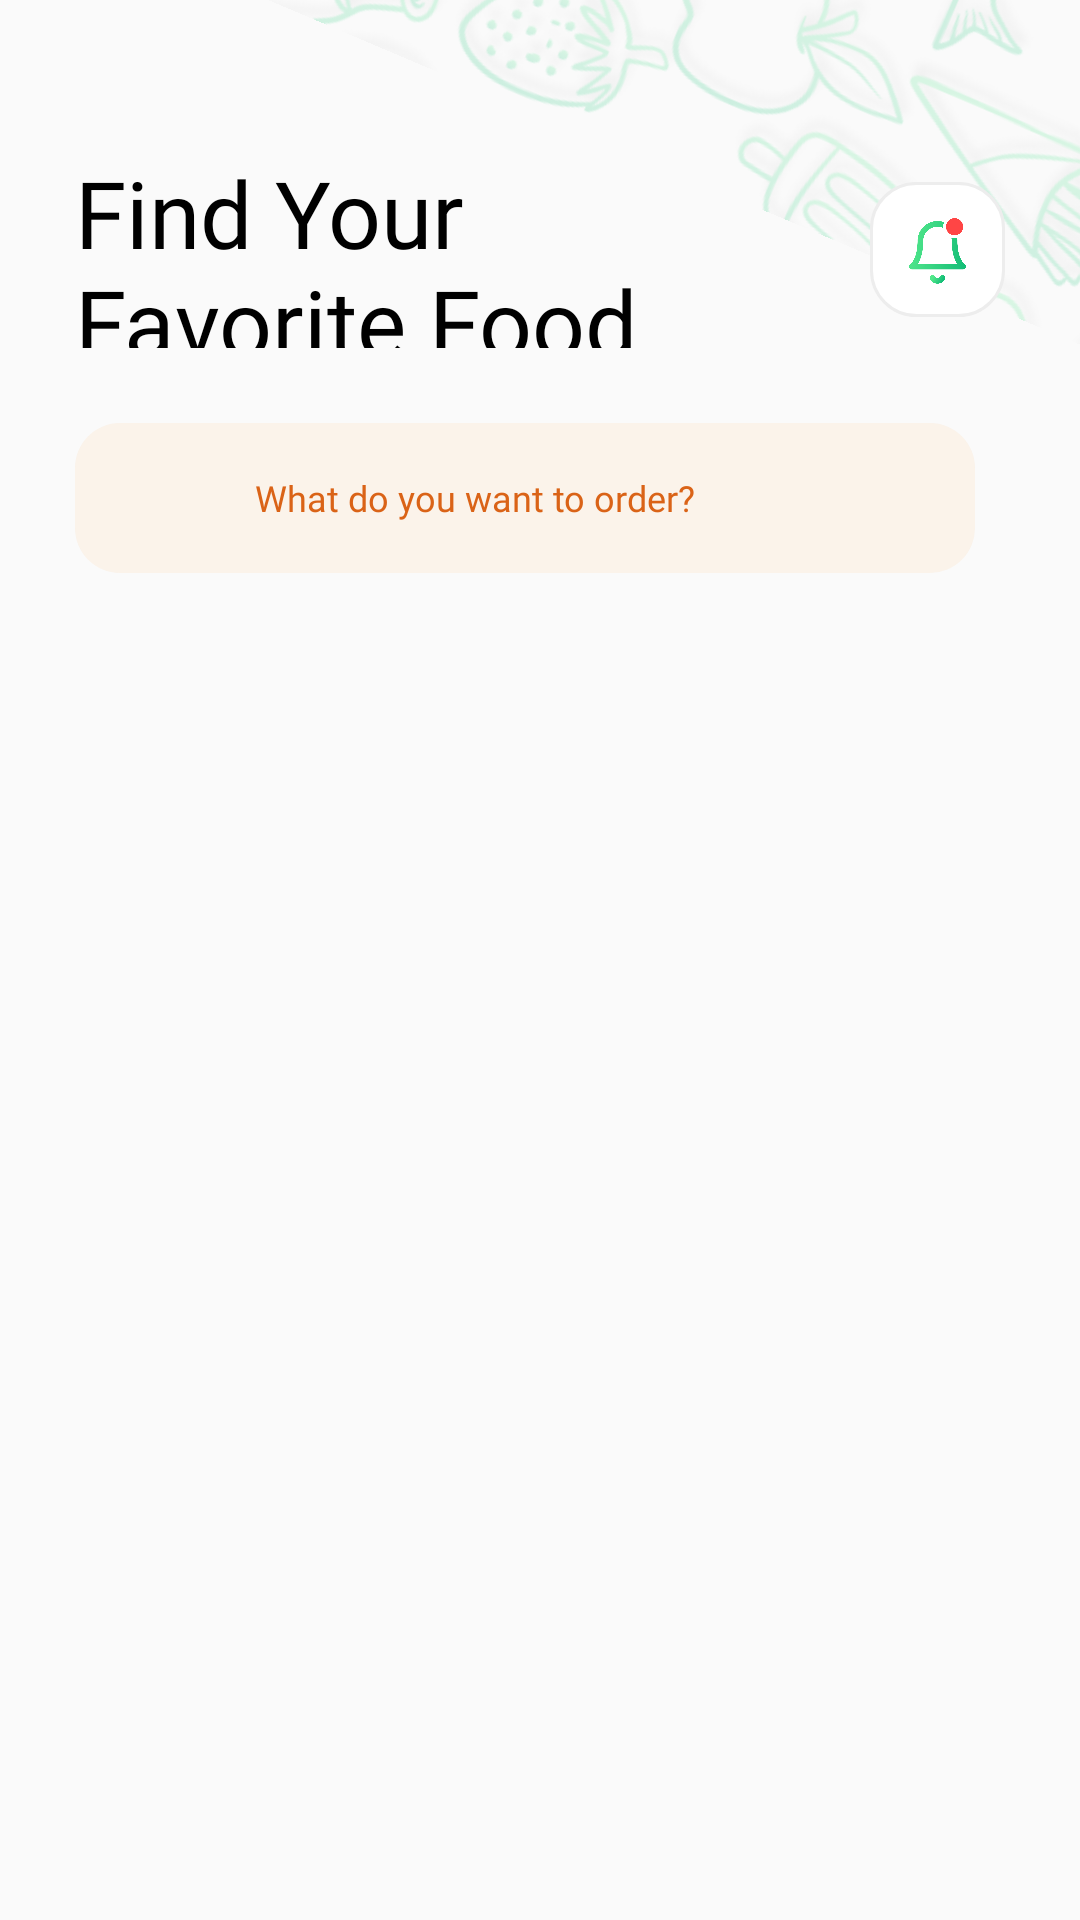

Where icons sit on this 1080px x 1920px app screen, as (x1, y1, x2, y2):
notification: (909, 218, 966, 284)
